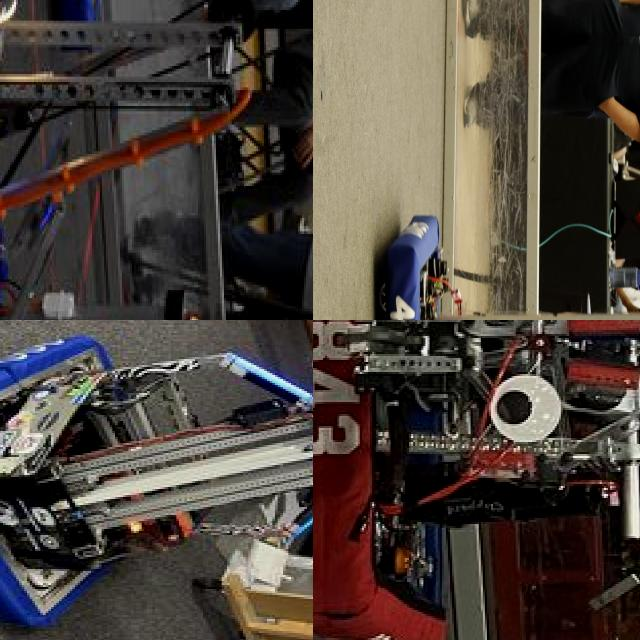FRC-Robots: (313, 320, 640, 640), (0, 320, 313, 640), (0, 0, 270, 320), (371, 187, 640, 320), (40, 0, 179, 48)
